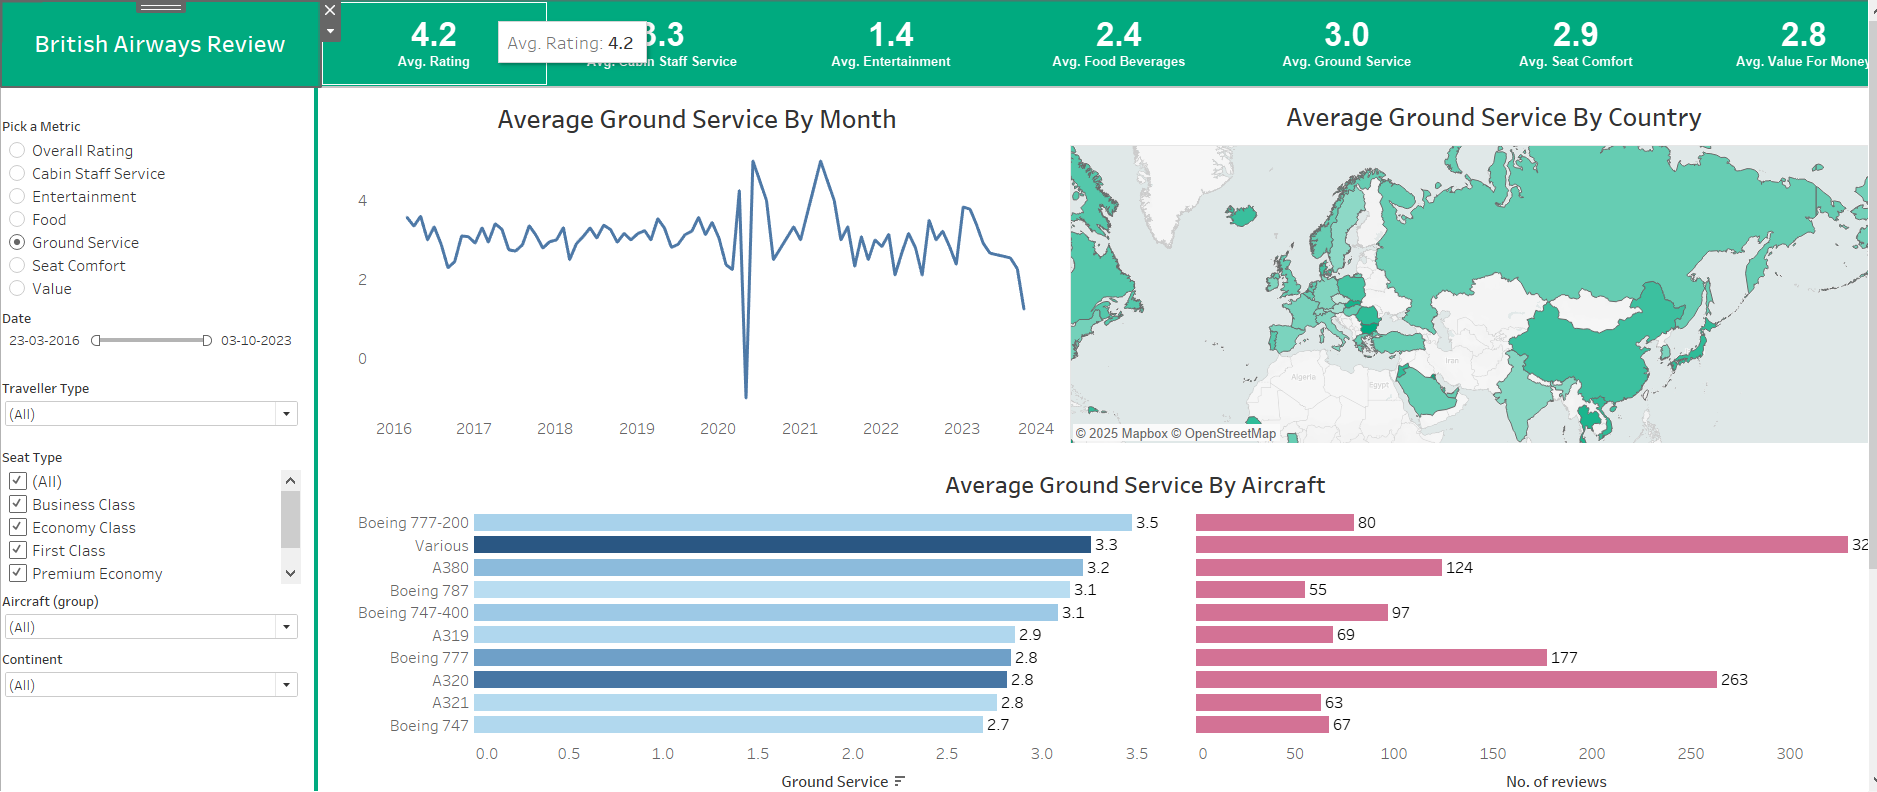

What the dashboard file says about the page in this screenshot:
{"tool":"tableau","page":{"name":"British Airways Dashboard","canvas":[1200,700],"ordinal":0},"visuals":[{"type":"text","box":[0,0,200,75]},{"type":"worksheet","title":"Summary","mark":"Automatic","box":[200,0,999,75]},{"type":"title","box":[8,8,1184,50]},{"type":"blank","box":[196,75,3,626]},{"type":"worksheet","title":"Map","mark":"Automatic","box":[669,83,530,305]},{"type":"worksheet","title":"Month","mark":"Automatic","rows":["Calculation_261208780980494336"],"cols":["date"],"box":[211,85,449,301]},{"type":"worksheet","title":"Aircraft","mark":"Automatic","cols":["Calculation_261208780980494336","ba_reviews.csv_297B35DF010D4E7487A0264314B47D94"],"box":[221,406,977,293]}]}

Visuals, with their boxes on the page's 1200x700 design canvas (x1, y1, x2, y2). These are canvas units, not pixel positions in the 1877x792 screenshot, which may show the page scaled, cropped or inside an application window:
text: {"left": 0, "top": 0, "right": 200, "bottom": 75}
"Summary" worksheet: {"left": 200, "top": 0, "right": 1199, "bottom": 75}
title: {"left": 8, "top": 8, "right": 1192, "bottom": 58}
blank: {"left": 196, "top": 75, "right": 199, "bottom": 701}
"Map" worksheet: {"left": 669, "top": 83, "right": 1199, "bottom": 388}
"Month" worksheet: {"left": 211, "top": 85, "right": 660, "bottom": 386}
"Aircraft" worksheet: {"left": 221, "top": 406, "right": 1198, "bottom": 699}
